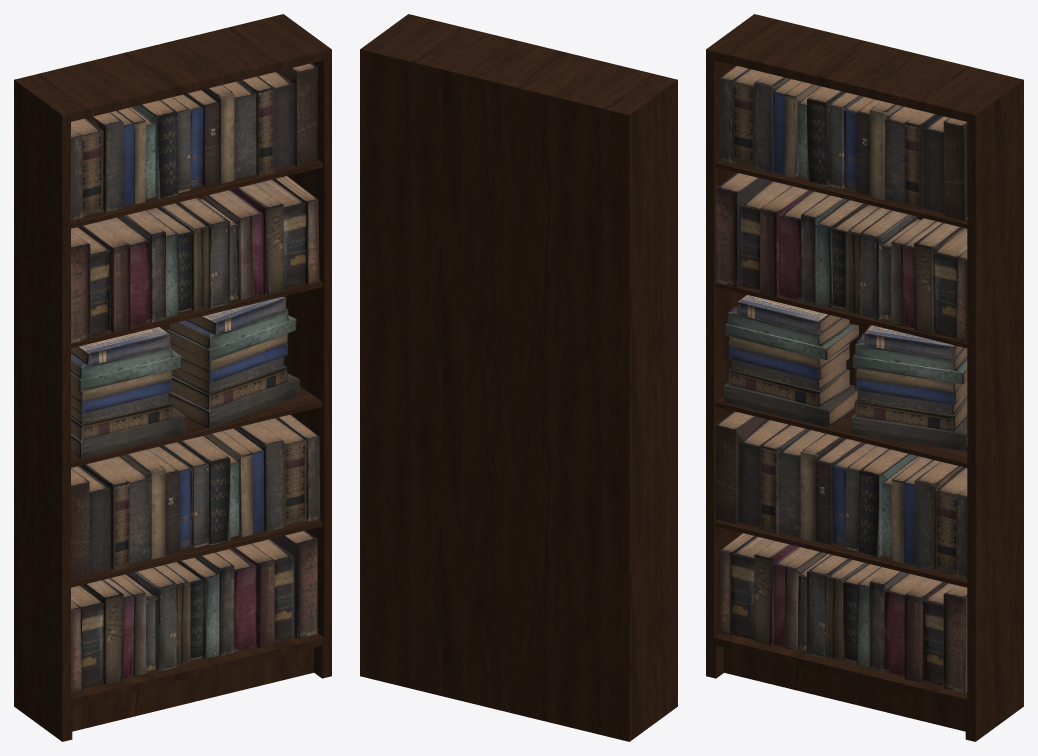
Rendered from Prop_BookcaseBooks_Model.fbx.
3 views of the same model, side by side, from view 1: azimuth 30°, elevation 25°; view 2: azimuth 150°, elevation 25°; view 3: azimuth 330°, elevation 25° (orthographic).
Parts seen in each view (by area): view 1: Bookcase; view 2: Bookcase; view 3: Bookcase.
Boxes of the visible parts, <box> form: Bookcase: <box>14,14,331,741</box>; Bookcase: <box>360,14,677,741</box>; Bookcase: <box>706,14,1023,741</box>.
Size of the model in its own units: 90 by 200 by 28.54.
